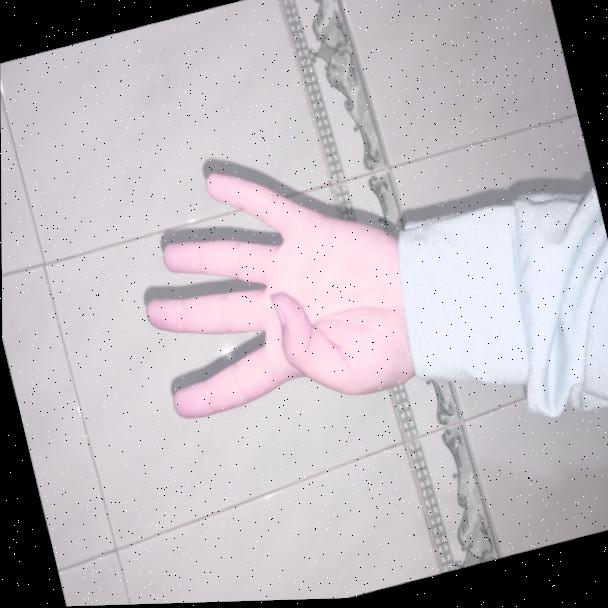four: (105, 113, 447, 458)
